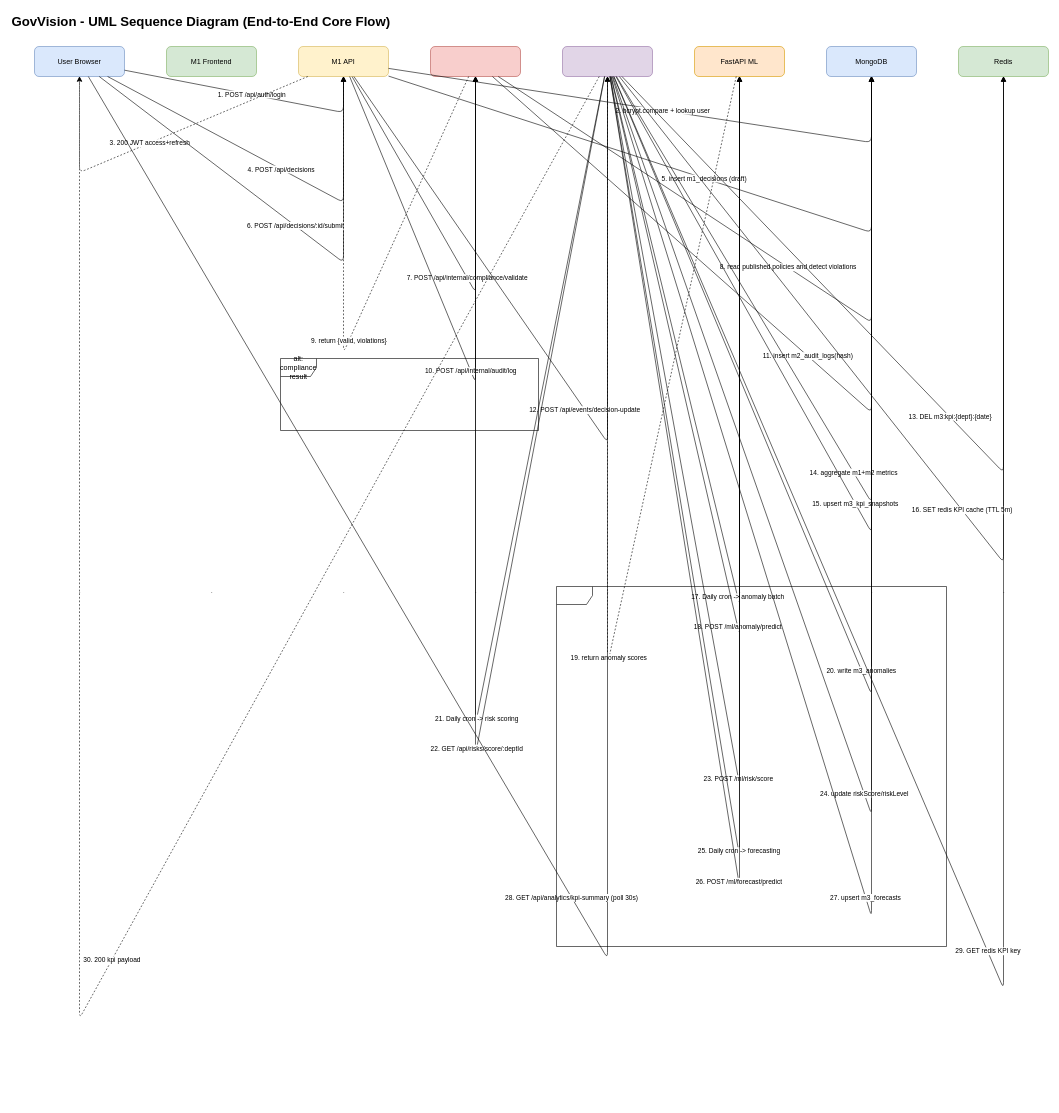
Some shapes in this 1059 by 1113 pixel diagram are drawn without their labels. Each missing label, with the centre of its shape:
"loop: daily jobs (anomaly/risk/forecast)" belongs at point (751, 766).
"M2 API" belongs at point (475, 61).
"M3 API" belongs at point (607, 61).
